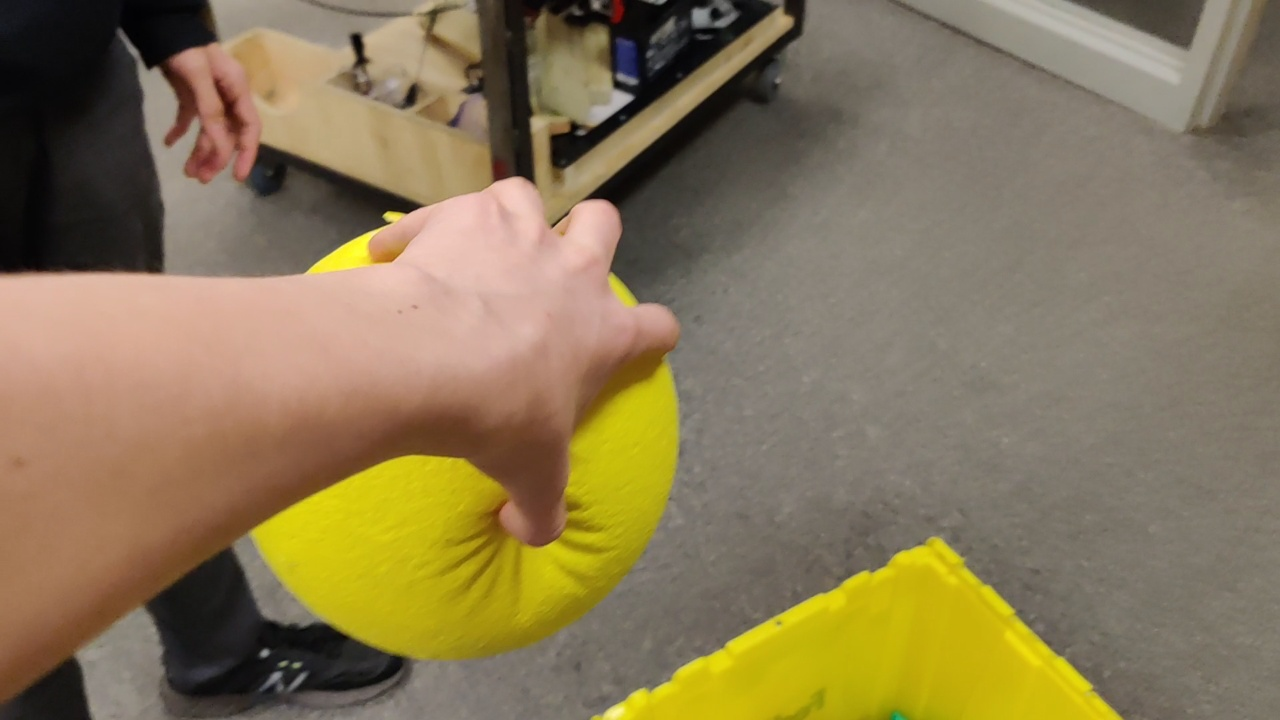Ball: (249, 336, 678, 653)
